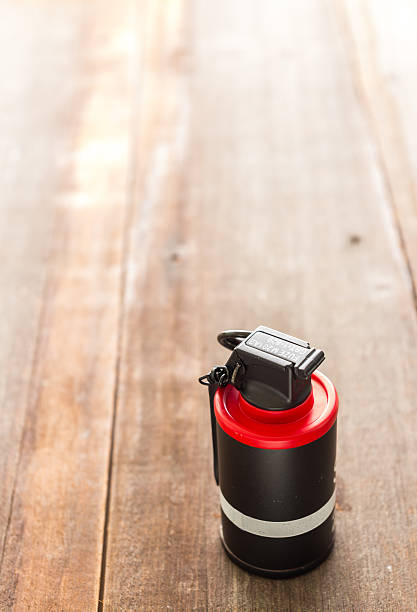e1: (202, 328, 349, 579)
